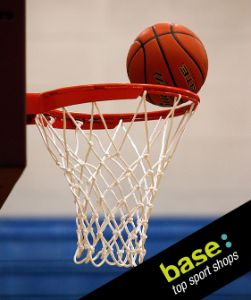baloncesto: (127, 23, 208, 107)
